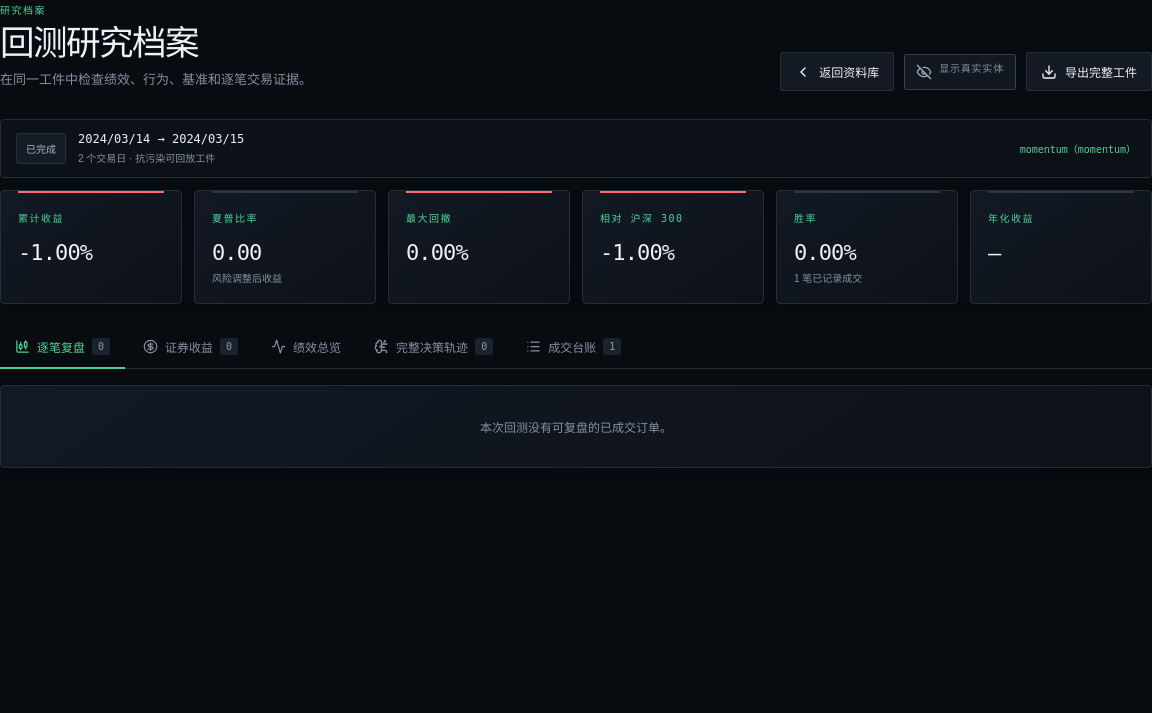
Scenario: Results › reveals original entity names on demand while keeping export masked
Click the switch named "显示原始股票名称": [960, 72] box top-left (904, 54), bottom-right (1016, 90)
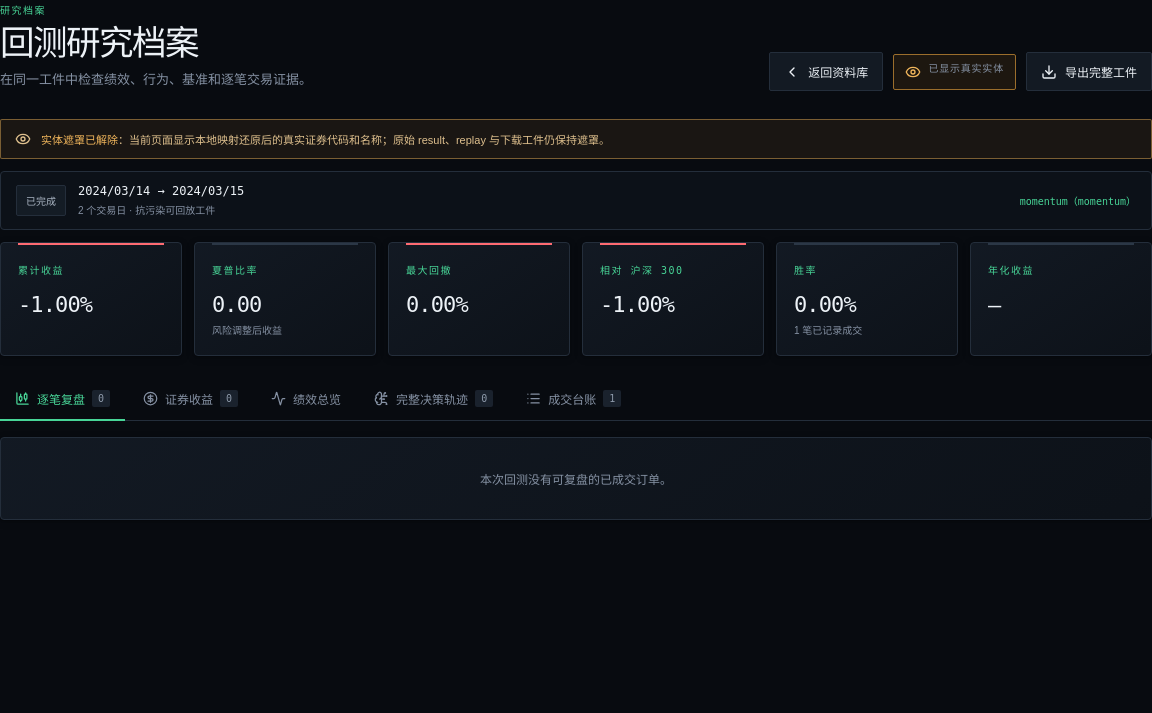
Now the message "实体遮罩已解除" is shown, box top-left (0, 119), bottom-right (1151, 159)
Click the button "成交台账 1": [574, 400] box top-left (511, 378), bottom-right (636, 421)
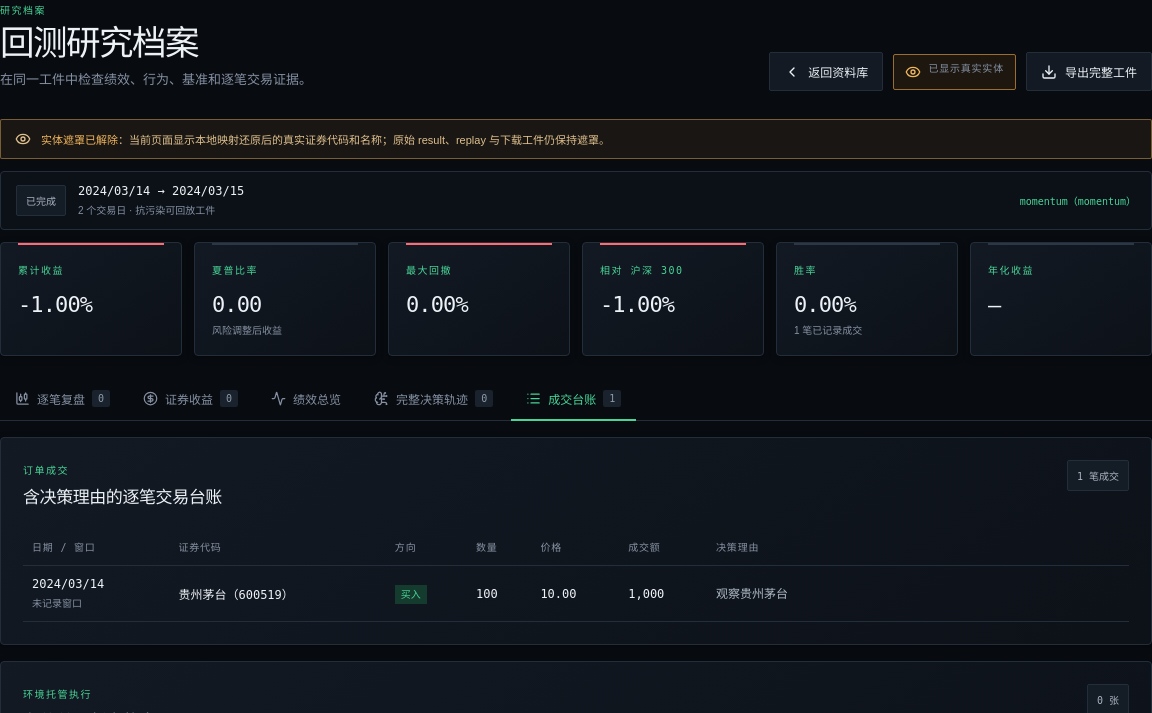
Now the text "贵州茅台（600519）" is shown, box top-left (170, 566), bottom-right (386, 622)
